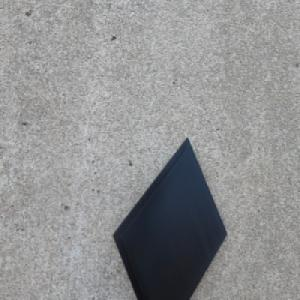PlasticPart: (111, 134, 227, 300)
